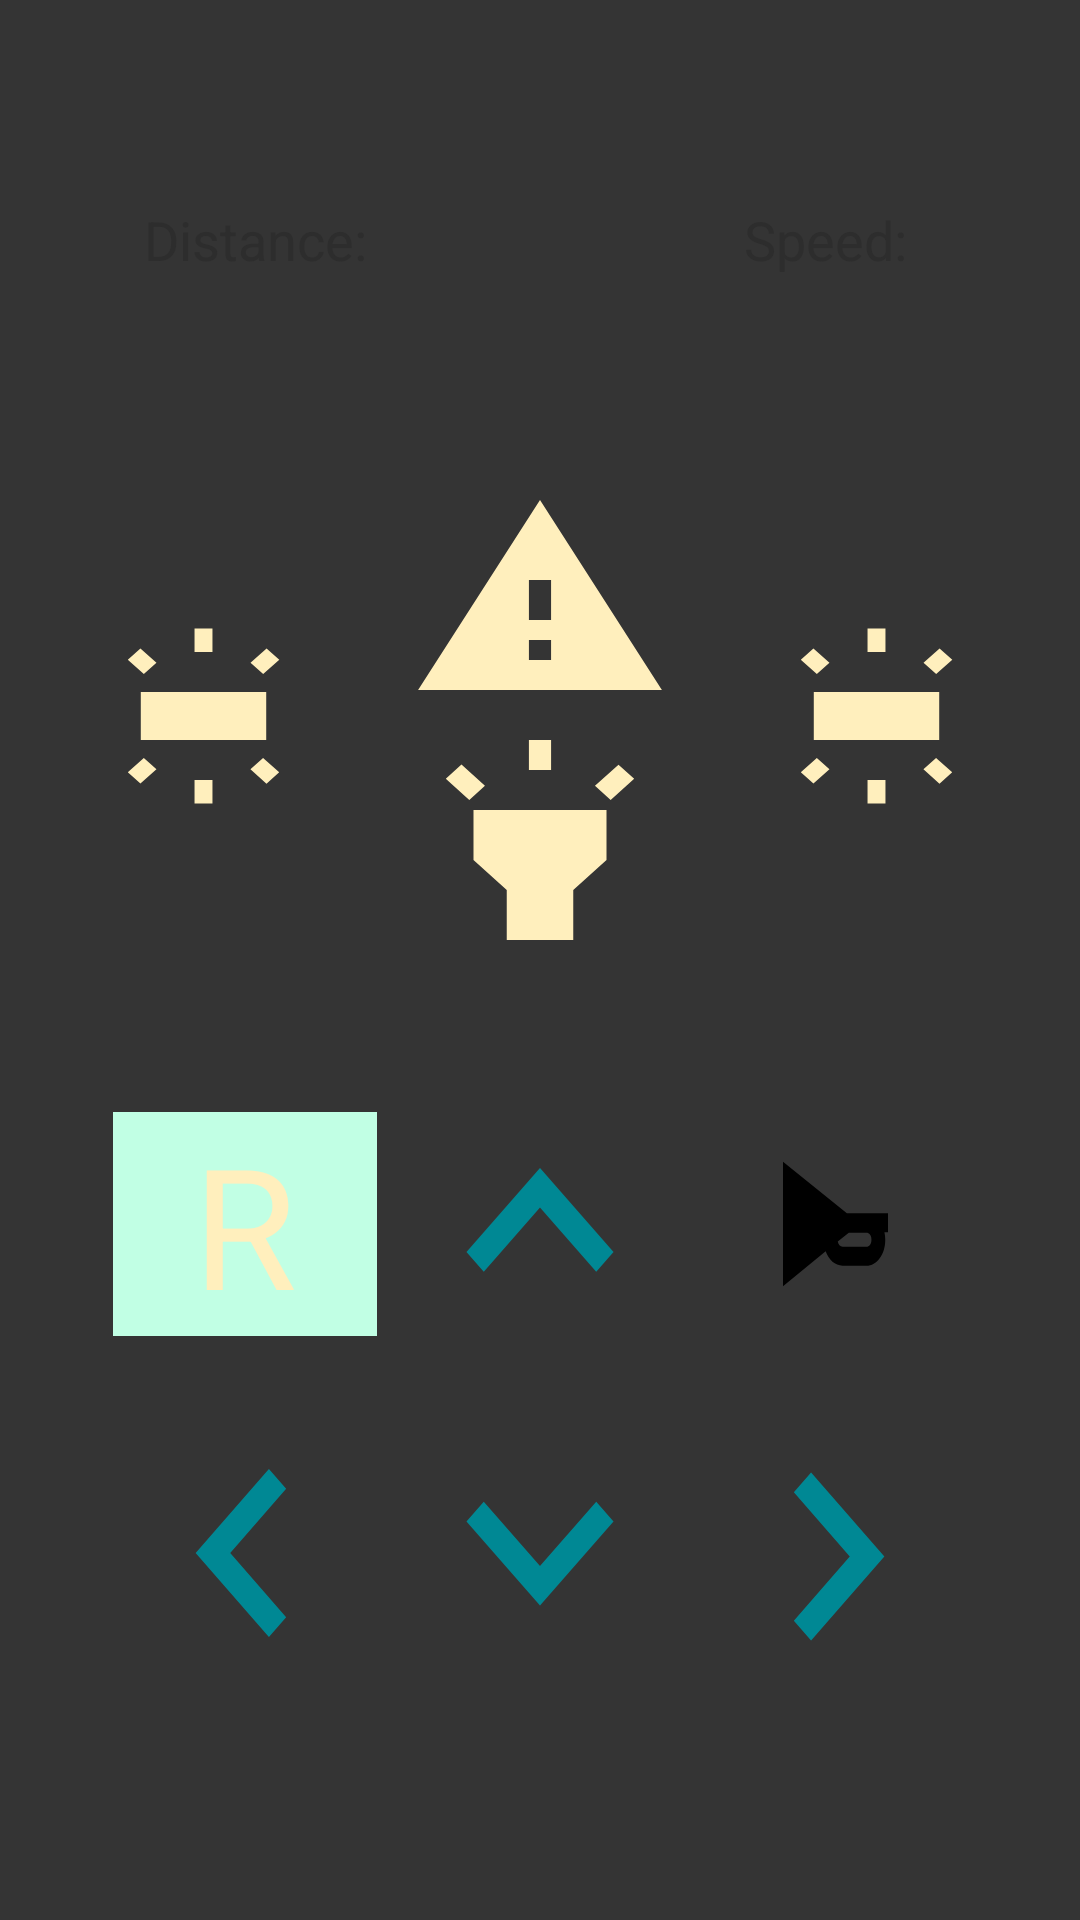

Screen size 1080×1920. Icon name, then its center in pixels as (x,y):
horn: (835,1224)
keyboard arrow down: (540,1553)
keyboard arrow left: (241,1553)
keyboard arrow right: (839,1556)
keyboard arrow up: (540,1220)
